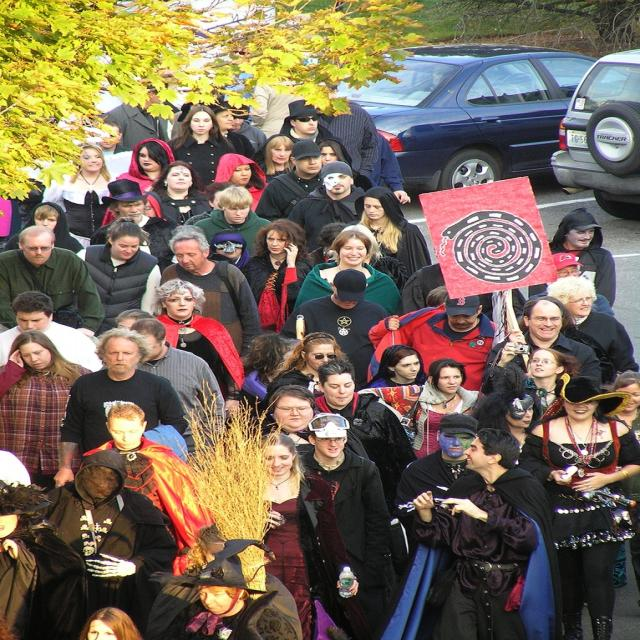other: (345, 46, 603, 192), (545, 50, 639, 218)
